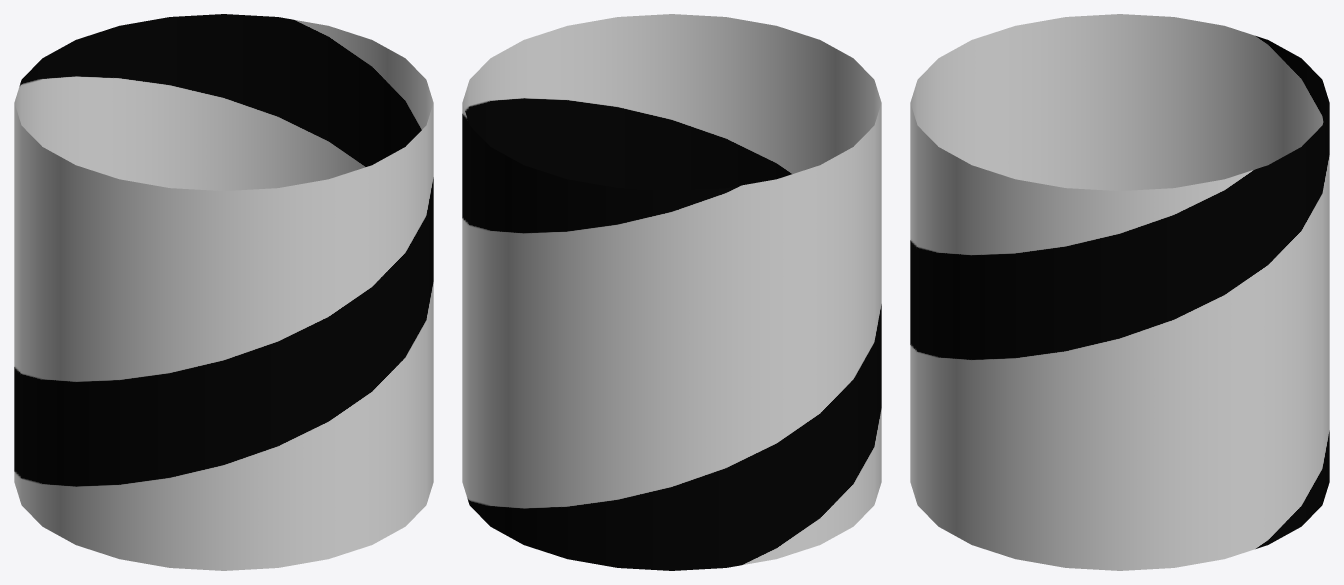
File: SM_Rope_01.fbx
3 views of the same model, side by side, from view 1: azimuth 30°, elevation 25°; view 2: azimuth 150°, elevation 25°; view 3: azimuth 270°, elevation 25° (orthographic).
Visible parts, largest first — view 1: Cylinder; view 2: Cylinder; view 3: Cylinder.
Boxes of the visible parts, bbox=[...] form: Cylinder: bbox=[14, 14, 433, 570]; Cylinder: bbox=[462, 14, 881, 570]; Cylinder: bbox=[910, 14, 1329, 570].
Bounding box in the file's own units: 2 × 2 × 2.
